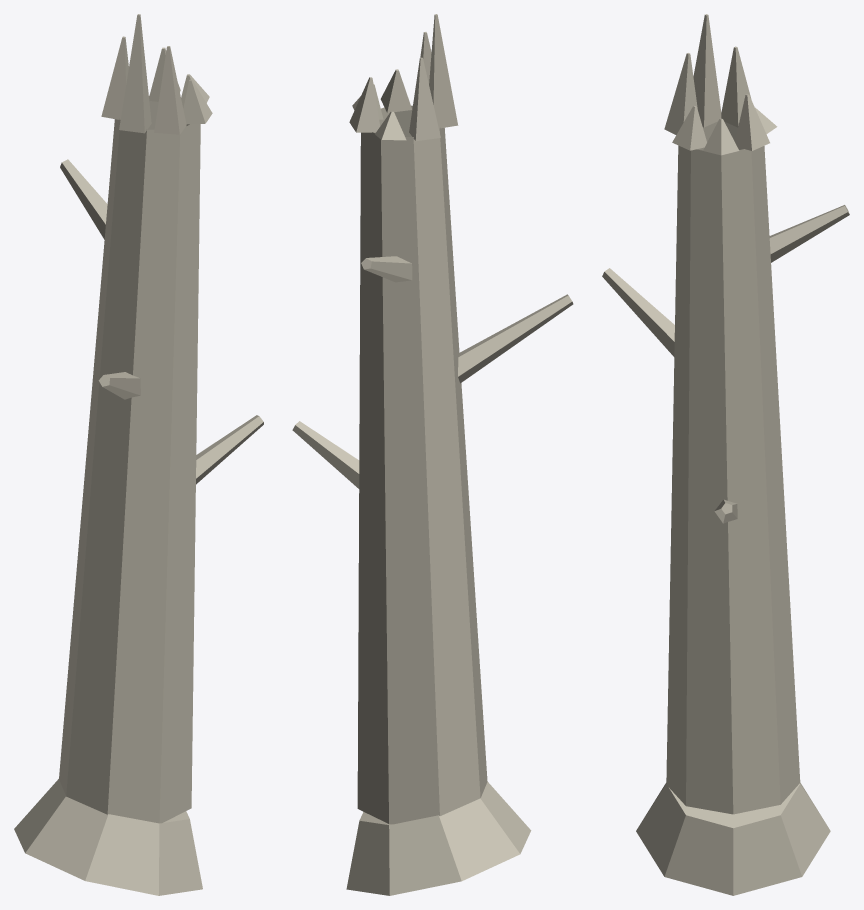
File: DL_Tree_BleachedSnag.obj
The picture shows the model from 3 angles, left to right: view 1: azimuth 30°, elevation 25°; view 2: azimuth 150°, elevation 25°; view 3: azimuth 270°, elevation 25°; orthographic projection. The views are drawn at different scales.
Visible parts, largest first — view 1: trunk, flare, splinter_3, splinter_2, stub_0, stub_2, splinter_4, splinter_1, stub_1; view 2: trunk, flare, stub_1, splinter_3, splinter_4, stub_0, splinter_6, stub_2, splinter_1; view 3: trunk, flare, splinter_3, stub_1, stub_2, splinter_4, splinter_2, splinter_6, splinter_1, splinter_0.
Boxes of the visible parts, x1=… form: trunk: x1=59, y1=96, x2=200, y2=823; flare: x1=14, y1=779, x2=202, y2=895; splinter_3: x1=119, y1=14, x2=151, y2=133; splinter_2: x1=154, y1=46, x2=186, y2=134; stub_0: x1=196, y1=415, x2=263, y2=484; stub_2: x1=60, y1=159, x2=107, y2=239; splinter_4: x1=101, y1=36, x2=128, y2=119; splinter_1: x1=183, y1=79, x2=212, y2=124; stub_1: x1=98, y1=372, x2=140, y2=399; trunk: x1=357, y1=105, x2=487, y2=824; flare: x1=346, y1=781, x2=531, y2=895; stub_1: x1=458, y1=294, x2=573, y2=383; splinter_3: x1=429, y1=14, x2=458, y2=128; splinter_4: x1=409, y1=57, x2=440, y2=141; stub_0: x1=292, y1=421, x2=359, y2=488; splinter_6: x1=349, y1=77, x2=380, y2=132; stub_2: x1=361, y1=256, x2=412, y2=282; splinter_1: x1=380, y1=69, x2=412, y2=112; trunk: x1=666, y1=121, x2=800, y2=814; flare: x1=636, y1=783, x2=830, y2=895; splinter_3: x1=693, y1=14, x2=721, y2=127; stub_1: x1=602, y1=268, x2=674, y2=356; stub_2: x1=769, y1=205, x2=849, y2=262; splinter_4: x1=721, y1=46, x2=751, y2=127; splinter_2: x1=664, y1=53, x2=697, y2=134; splinter_6: x1=735, y1=94, x2=769, y2=150; splinter_1: x1=672, y1=106, x2=706, y2=150; splinter_0: x1=703, y1=118, x2=739, y2=155.
Size of the model in its own units: 4.31 by 15.39 by 4.07.
